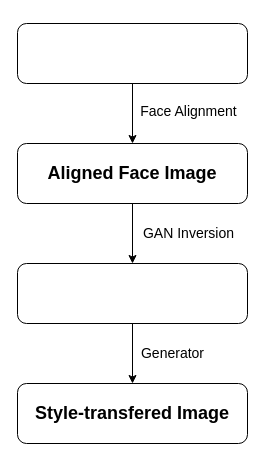
This 265x461 diagram has some shape labels left out. The shapes that lost their labels are listed below. From the top down, each one's centre as x and y in pixels, then its label:
At pixel 132 53: "Raw Reference Face Image".
At pixel 132 293: "Latent Features".
